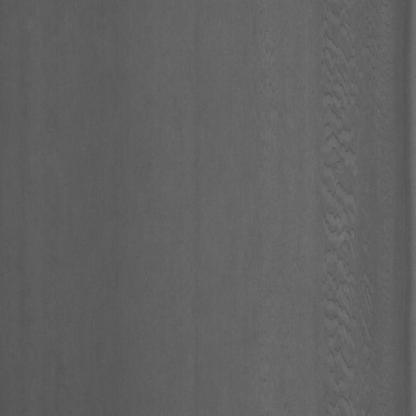silk_spot: (310, 2, 371, 394)
